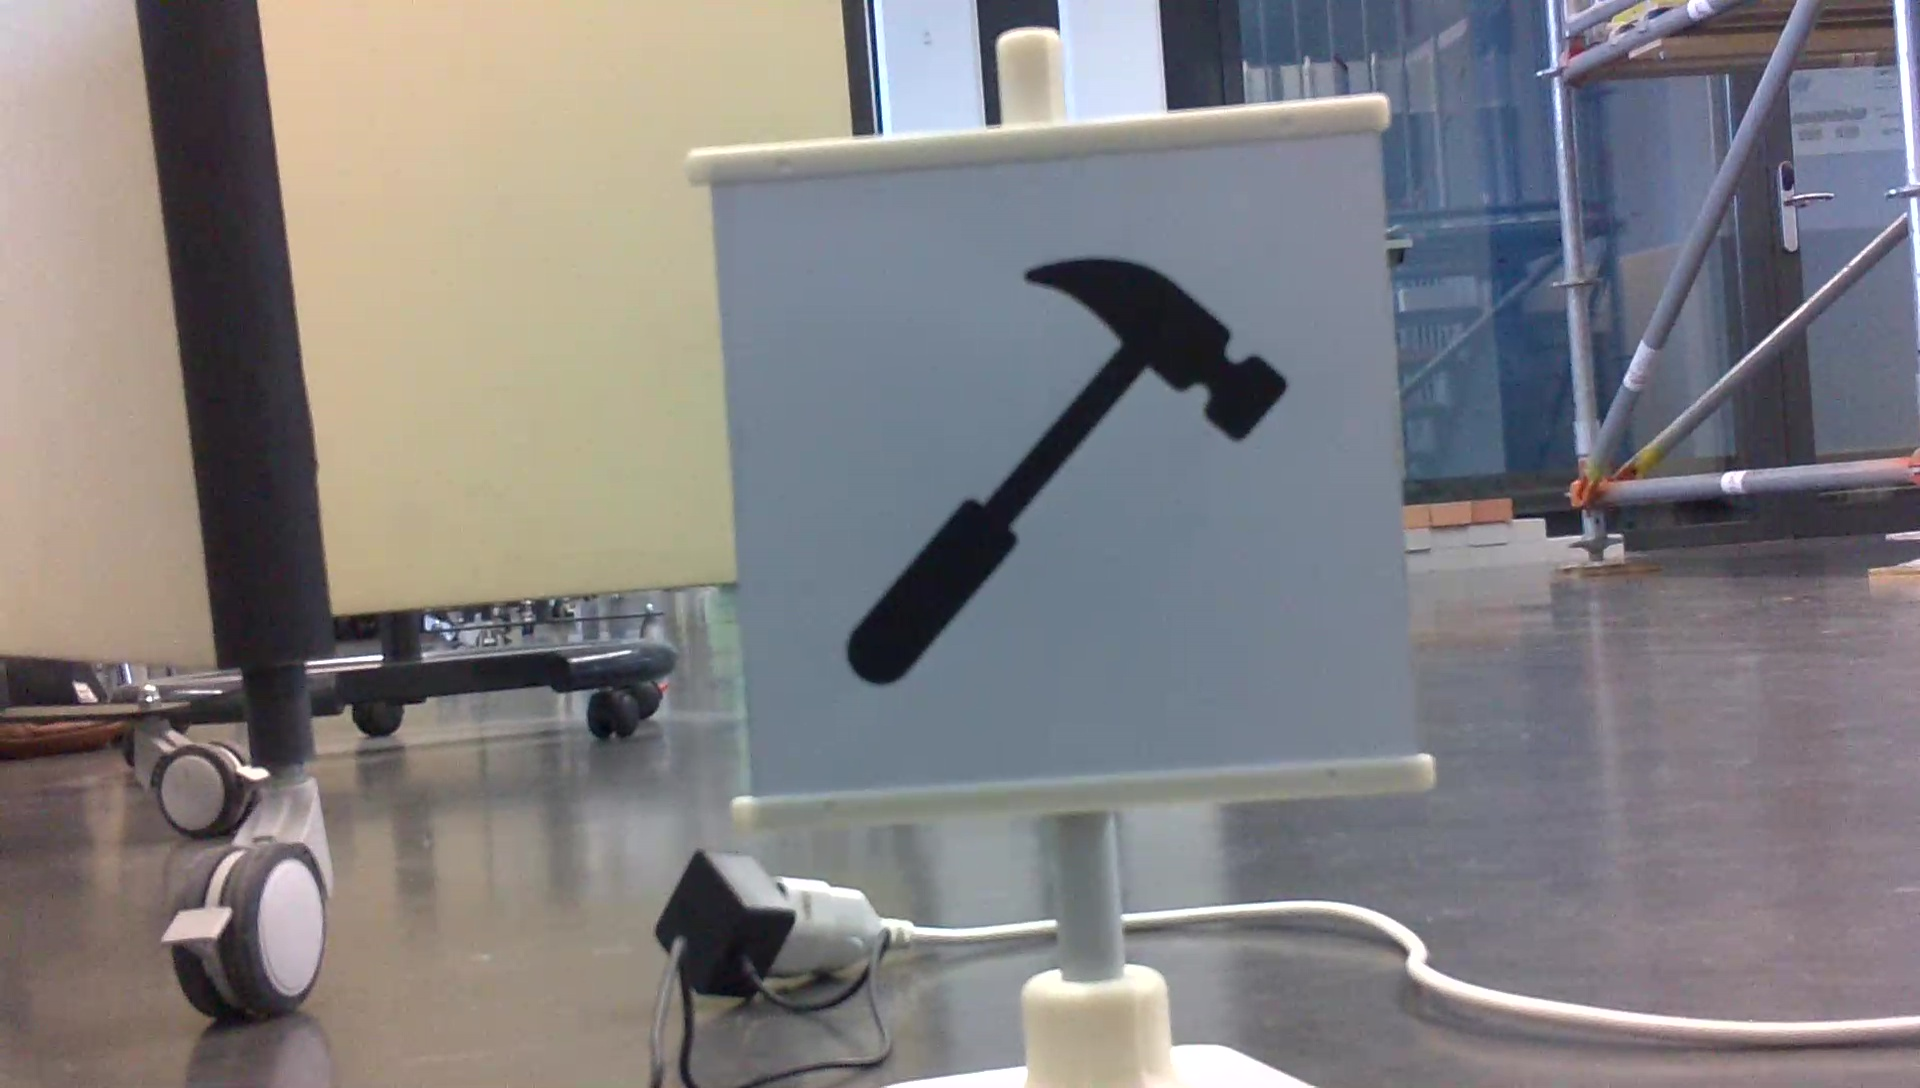hammer: (837, 245, 1295, 688)
